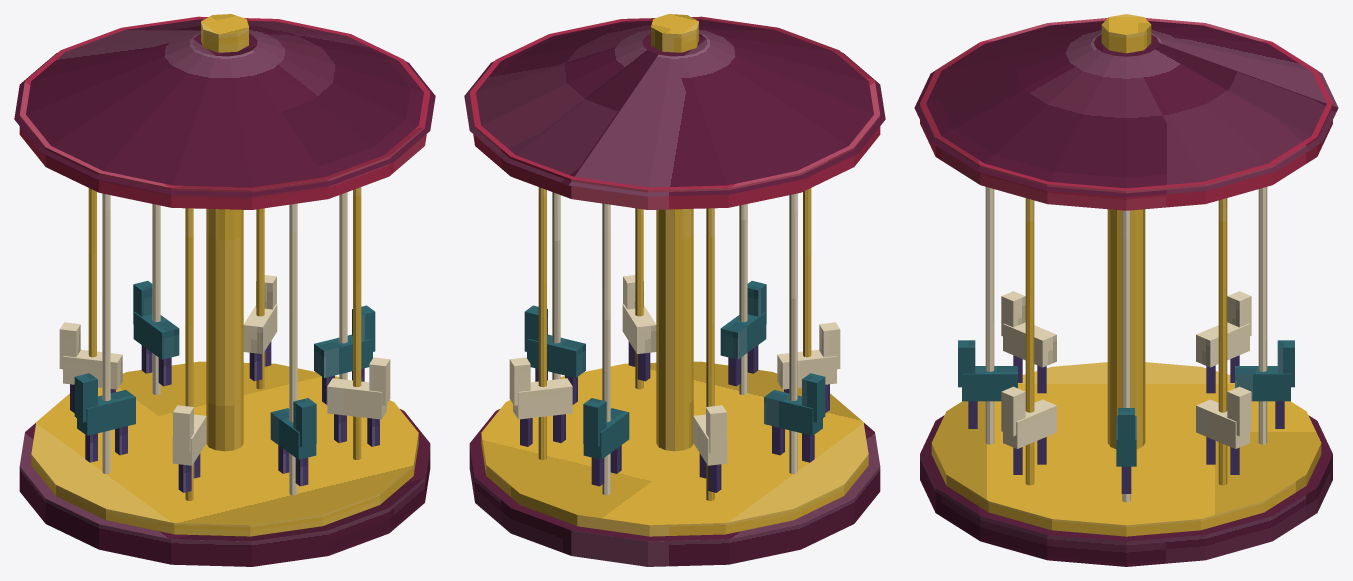
Rendered from carousel_centerpiece.glb.
3 views of the same model, side by side, from view 1: azimuth 30°, elevation 25°; view 2: azimuth 150°, elevation 25°; view 3: azimuth 270°, elevation 25° (orthographic).
Parts seen in each view (by area): view 1: Canopy, CarouselDeck, CarouselBase, CanopyBand, CenterMast, RidePole_4, RidePole_6, RidePole_7, RidePole_5, HorseBody_7, HorseBody_4, HorseBody_0 (+17 smaller); view 2: Canopy, CarouselDeck, CarouselBase, CanopyBand, CenterMast, RidePole_4, RidePole_2, RidePole_1, RidePole_3, HorseBody_1, HorseBody_4, HorseBody_0 (+17 smaller); view 3: Canopy, CarouselDeck, CarouselBase, CanopyBand, CenterMast, RidePole_1, RidePole_7, RidePole_2, RidePole_6, RidePole_0, Crown, HorseBody_2 (+12 smaller).
Boxes of the visible parts, left/top/right/bottom form: Canopy: left=14, top=19, right=435, bottom=196; CarouselDeck: left=31, top=361, right=418, bottom=536; CarouselBase: left=19, top=409, right=430, bottom=566; CanopyBand: left=19, top=16, right=430, bottom=209; CenterMast: left=206, top=209, right=243, bottom=451; RidePole_4: left=102, top=193, right=110, bottom=473; RidePole_6: left=289, top=203, right=297, bottom=495; RidePole_7: left=353, top=187, right=361, bottom=459; RidePole_5: left=185, top=208, right=193, bottom=500; HorseBody_7: left=327, top=378, right=386, bottom=419; HorseBody_4: left=77, top=389, right=135, bottom=435; HorseBody_0: left=314, top=334, right=372, bottom=377; Canopy: left=464, top=19, right=885, bottom=196; CarouselDeck: left=481, top=361, right=868, bottom=536; CarouselBase: left=469, top=409, right=880, bottom=566; CanopyBand: left=469, top=16, right=880, bottom=209; CenterMast: left=656, top=209, right=693, bottom=451; RidePole_4: left=789, top=193, right=797, bottom=473; RidePole_2: left=602, top=203, right=610, bottom=495; RidePole_1: left=538, top=187, right=546, bottom=459; RidePole_3: left=706, top=208, right=714, bottom=500; HorseBody_1: left=513, top=378, right=572, bottom=419; HorseBody_4: left=764, top=389, right=822, bottom=435; HorseBody_0: left=527, top=334, right=585, bottom=377; Canopy: left=914, top=21, right=1338, bottom=197; CarouselDeck: left=931, top=362, right=1321, bottom=536; CarouselBase: left=920, top=415, right=1332, bottom=566; CanopyBand: left=920, top=18, right=1332, bottom=210; CenterMast: left=1107, top=209, right=1145, bottom=448; RidePole_1: left=1218, top=198, right=1227, bottom=485; RidePole_7: left=1025, top=198, right=1034, bottom=485; RidePole_2: left=1258, top=187, right=1267, bottom=444; RidePole_6: left=985, top=187, right=994, bottom=444; RidePole_0: left=1122, top=210, right=1130, bottom=502; Crown: left=1101, top=14, right=1151, bottom=53; HorseBody_2: left=1235, top=366, right=1290, bottom=401.
Size of the model in its own units: 5.44 by 6.44 by 5.44.
Materials: 1 (1 with a texture image).
